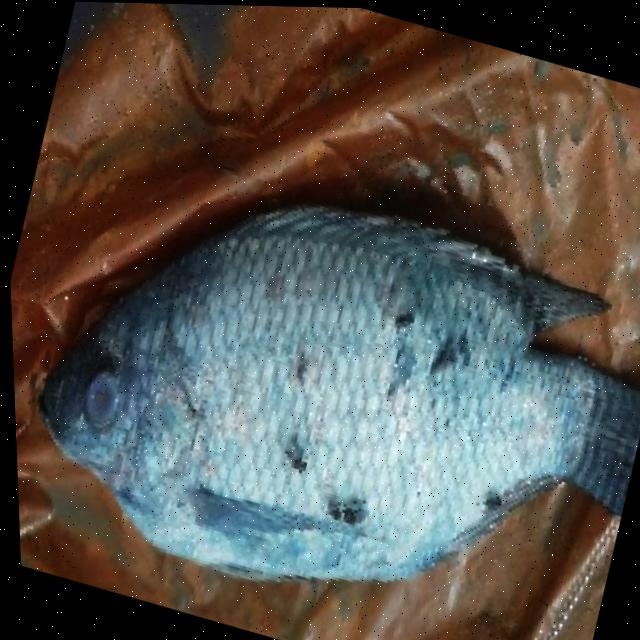Non-Fresh: (162, 234, 510, 530), (52, 353, 132, 450)
